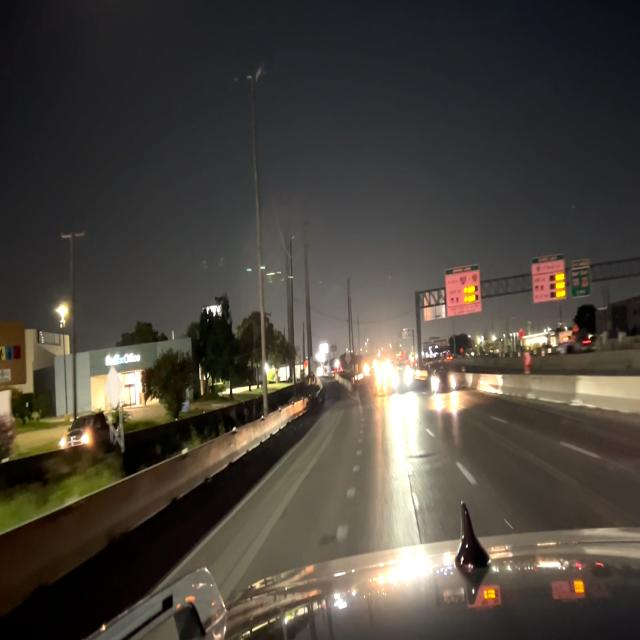back-of-sign: (420, 287, 446, 324), (396, 324, 414, 344)
